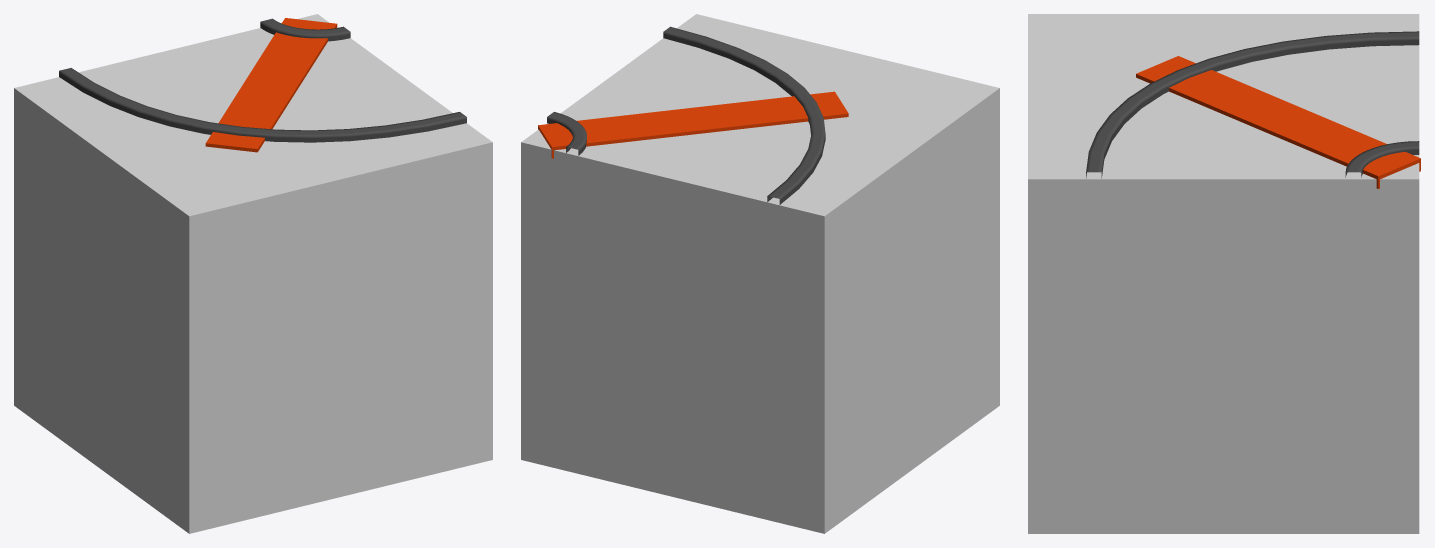
The model's file is Rail_Turn.fbx.
3 views of the same model, side by side, from view 1: azimuth 30°, elevation 25°; view 2: azimuth 150°, elevation 25°; view 3: azimuth 270°, elevation 25° (orthographic). The views are drawn at different scales.
Parts seen in each view (by area): view 1: Cube, Planks, Rails, Rails.001; view 2: Cube, Planks, Rails, Rails.001; view 3: Cube, Planks, Rails, Rails.001.
Boxes of the visible parts, bbox=[...] form: Cube: bbox=[14, 14, 492, 533]; Planks: bbox=[205, 18, 337, 152]; Rails: bbox=[59, 68, 466, 142]; Rails.001: bbox=[260, 18, 350, 41]; Cube: bbox=[521, 14, 999, 533]; Planks: bbox=[538, 91, 848, 158]; Rails: bbox=[663, 26, 825, 204]; Rails.001: bbox=[547, 112, 586, 155]; Cube: bbox=[1028, 14, 1419, 533]; Planks: bbox=[1136, 56, 1420, 188]; Rails: bbox=[1086, 31, 1419, 178]; Rails.001: bbox=[1345, 141, 1419, 177].
Size of the model in its own units: 50.21 by 51 by 50.21.
